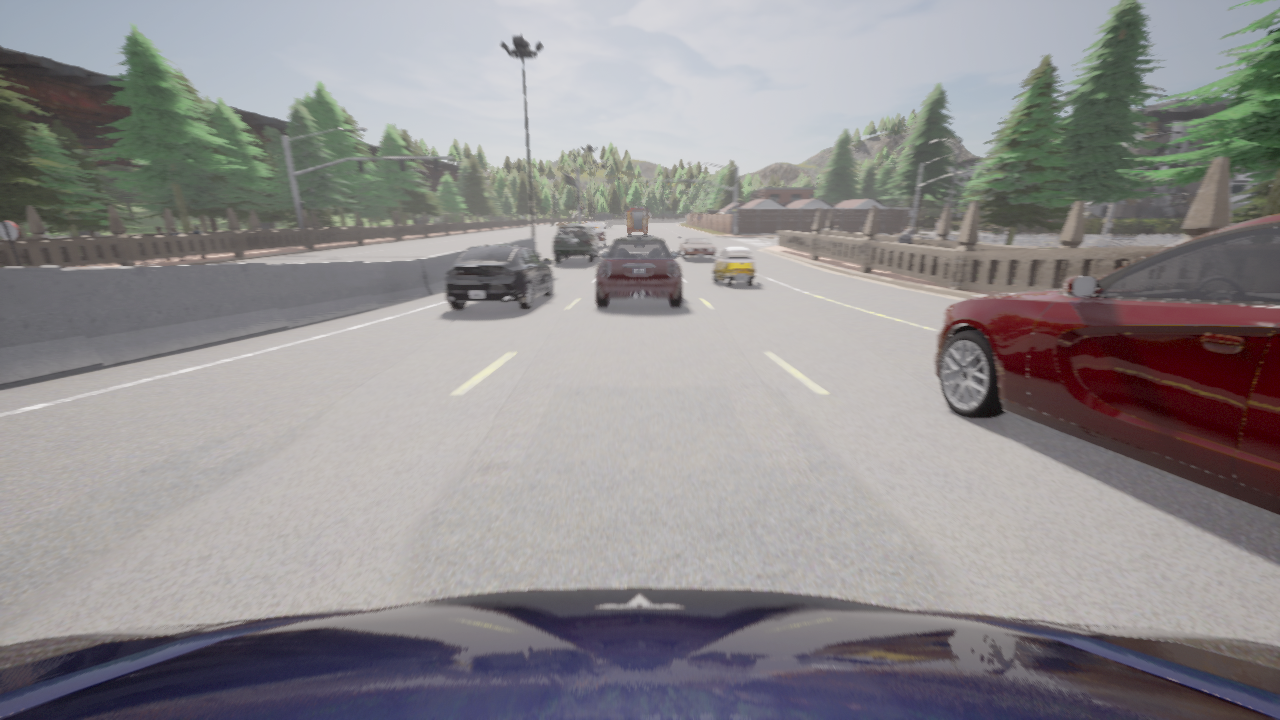cyclist: (0, 588, 1279, 719), (934, 214, 1279, 515), (445, 244, 553, 309), (596, 233, 682, 306), (553, 224, 599, 262), (713, 246, 754, 286), (678, 237, 716, 259), (625, 204, 649, 235), (585, 221, 609, 246)
pedestrian: (155, 226, 170, 261), (170, 226, 185, 261), (192, 226, 208, 258), (897, 228, 913, 244)
